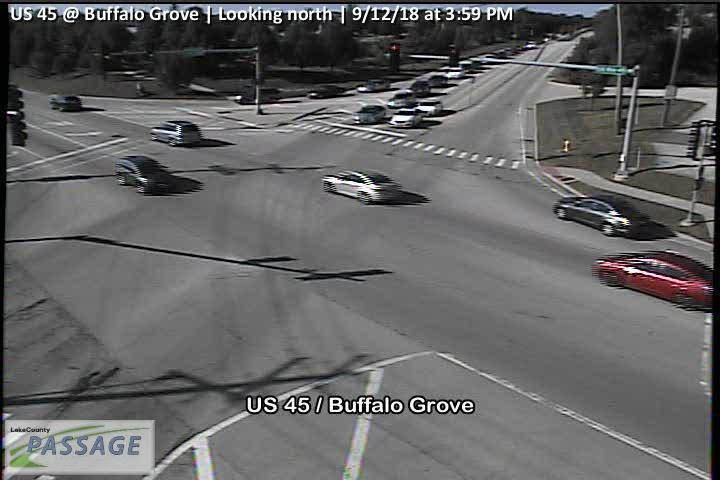SUV: (116, 155, 173, 195), (150, 119, 203, 147), (48, 94, 82, 111), (409, 78, 431, 98), (365, 77, 391, 92)
Sedan: (591, 249, 712, 310), (553, 195, 648, 237), (320, 167, 401, 205), (387, 107, 423, 127), (352, 105, 386, 124), (386, 88, 415, 109), (415, 98, 443, 118), (428, 74, 448, 87), (446, 67, 464, 79)
